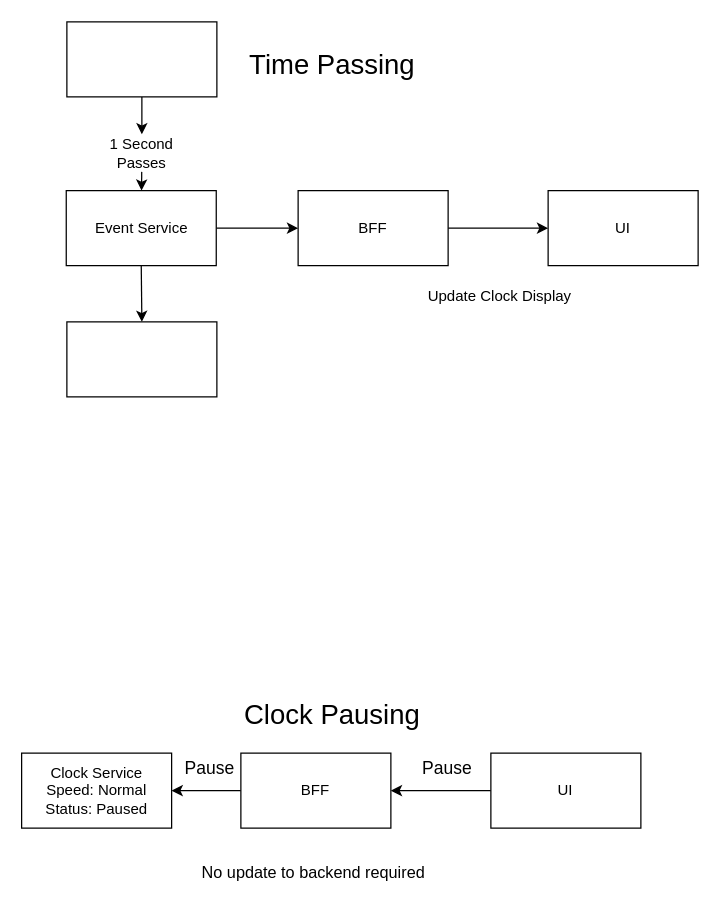
Image size: 721x906. Some labels were removed from this diagram. The shapes that lost their labels are listed below. From the top down, each one's centre as x and y in pixels, then its label:
the point at 141,59: Clock Service Speed: Normal Status: Unpaused
the point at 141,359: Game Orchestrator
